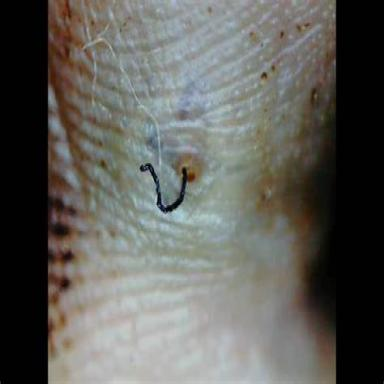Tungiasis: (139, 161, 195, 213)
